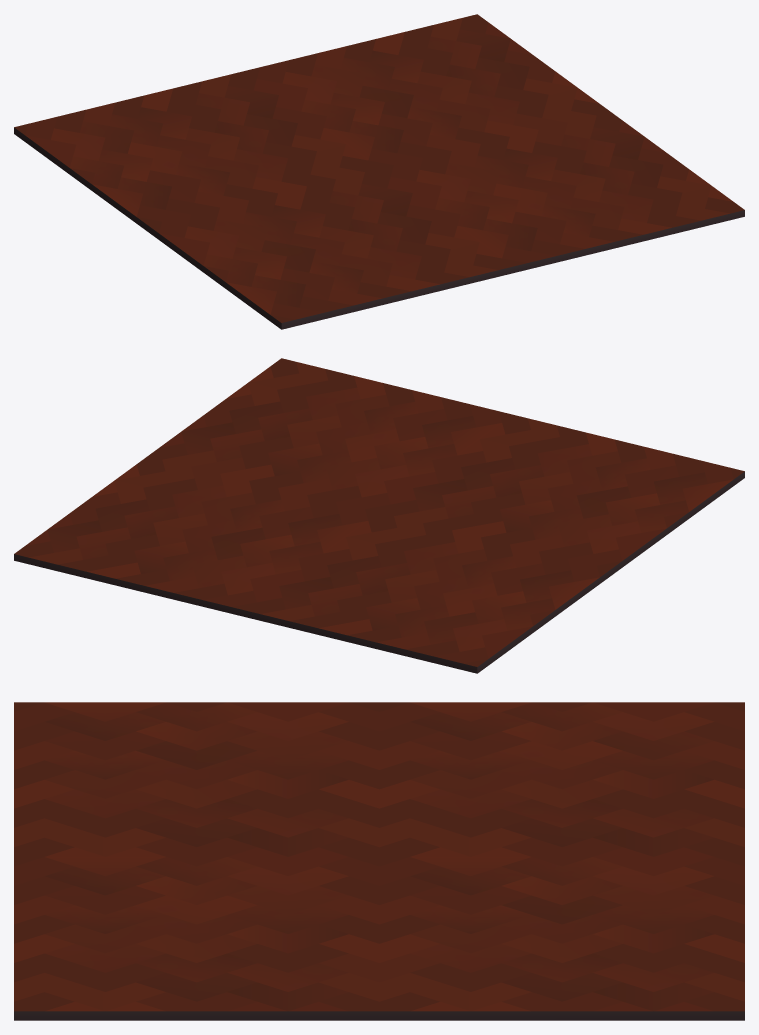
Rendered from TSP_House_Floor_Regular_03B.fbx.
3 views of the same model, one above another, from view 1: azimuth 30°, elevation 25°; view 2: azimuth 150°, elevation 25°; view 3: azimuth 270°, elevation 25° (orthographic). The views are drawn at different scales.
Visible parts, largest first — view 1: TSP_House_Floor_Regular_03B; view 2: TSP_House_Floor_Regular_03B; view 3: TSP_House_Floor_Regular_03B.
Boxes of the visible parts, x1=… form: TSP_House_Floor_Regular_03B: x1=14, y1=14, x2=744, y2=329; TSP_House_Floor_Regular_03B: x1=14, y1=358, x2=744, y2=673; TSP_House_Floor_Regular_03B: x1=14, y1=702, x2=744, y2=1020.
Size of the model in its own units: 8 by 0.11 by 8.
